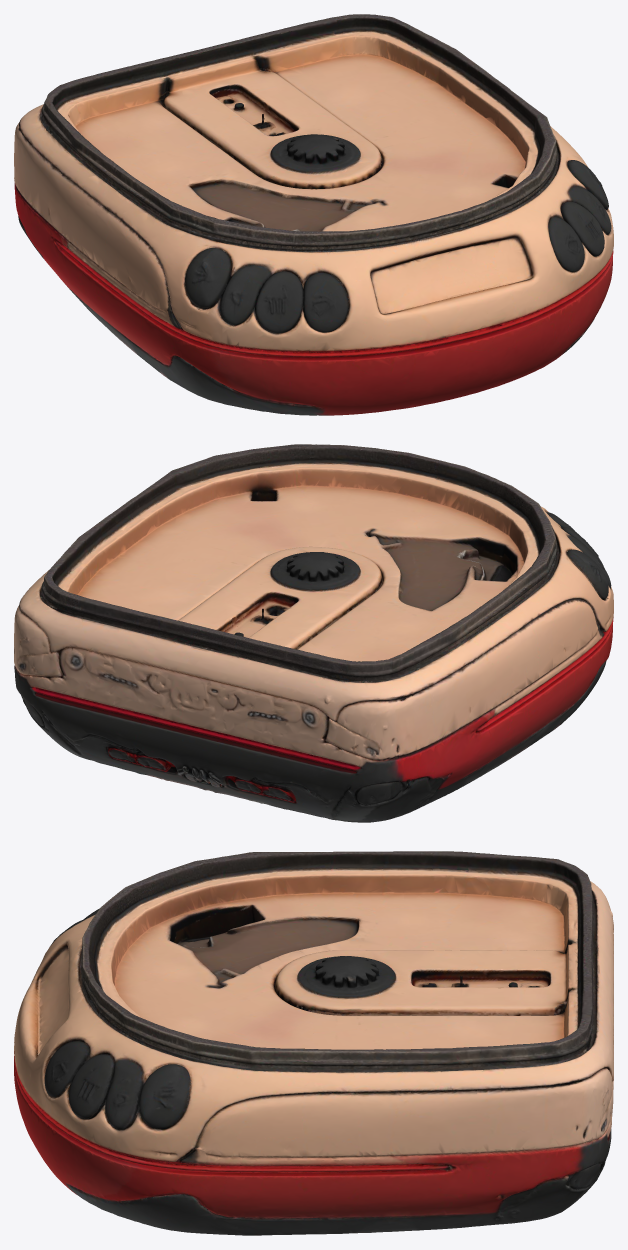
The model's file is cdplayer2.glb.
3 renders of one model, top to bottom at view 1: azimuth 30°, elevation 25°; view 2: azimuth 150°, elevation 25°; view 3: azimuth 270°, elevation 25°, orthographic. The views are drawn at different scales.
Size of the model in its own units: 1.74 by 0.6396 by 1.9.
Materials: 1 (1 with a texture image).
